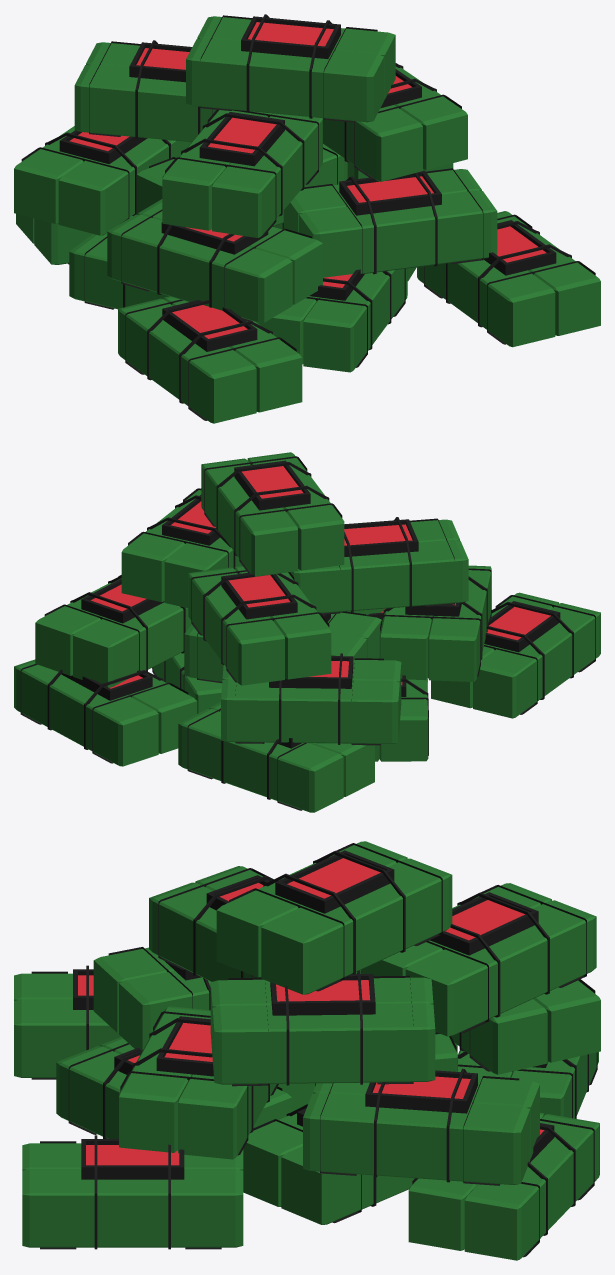
File: towerBomb.fbx
The picture shows the model from 3 angles, top to bottom: view 1: azimuth 30°, elevation 25°; view 2: azimuth 150°, elevation 25°; view 3: azimuth 270°, elevation 25°; orthographic projection. The views are drawn at different scales.
Visible parts, largest first — view 1: Cube.041, Cube.033, Cube.029, Cube.034, Cube.039, Cube.030, Cube.037, Cube.040, Cube.038, Cube.027, Cube.026, Cube.035 (+1 smaller); view 2: Cube.041, Cube.037, Cube.040, Cube.039, Cube.031, Cube.029, Cube.032, Cube.036, Cube.034, Cube.038, Cube.035, Cube.026 (+1 smaller); view 3: Cube.041, Cube.038, Cube.036, Cube.030, Cube.040, Cube.031, Cube.033, Cube.028, Cube.037, Cube.029, Cube.034, Cube.039 (+4 smaller).
Boxes of the visible parts, bbox=[...] form: Cube.041: bbox=[186, 14, 395, 122]; Cube.033: bbox=[283, 168, 497, 277]; Cube.029: bbox=[118, 296, 302, 423]; Cube.034: bbox=[107, 199, 322, 322]; Cube.039: bbox=[162, 109, 322, 237]; Cube.030: bbox=[417, 211, 600, 347]; Cube.037: bbox=[14, 126, 191, 235]; Cube.040: bbox=[74, 40, 216, 142]; Cube.038: bbox=[323, 63, 467, 181]; Cube.027: bbox=[256, 268, 407, 372]; Cube.026: bbox=[69, 216, 168, 309]; Cube.035: bbox=[136, 144, 347, 226]; Cube.041: bbox=[201, 452, 344, 576]; Cube.037: bbox=[221, 653, 401, 745]; Cube.040: bbox=[188, 566, 331, 685]; Cube.039: bbox=[290, 517, 468, 614]; Cube.031: bbox=[14, 659, 197, 766]; Cube.029: bbox=[431, 592, 600, 718]; Cube.032: bbox=[178, 702, 374, 812]; Cube.036: bbox=[35, 575, 191, 687]; Cube.034: bbox=[379, 565, 491, 681]; Cube.038: bbox=[121, 488, 242, 607]; Cube.035: bbox=[184, 611, 382, 683]; Cube.026: bbox=[375, 675, 428, 761]; Cube.041: bbox=[216, 841, 452, 994]; Cube.038: bbox=[210, 970, 435, 1086]; Cube.036: bbox=[303, 1068, 539, 1185]; Cube.030: bbox=[22, 1135, 243, 1249]; Cube.040: bbox=[361, 883, 596, 1036]; Cube.031: bbox=[408, 1112, 599, 1260]; Cube.033: bbox=[119, 1006, 278, 1159]; Cube.028: bbox=[243, 1104, 414, 1224]; Cube.037: bbox=[451, 979, 600, 1074]; Cube.029: bbox=[14, 965, 121, 1079]; Cube.034: bbox=[93, 947, 210, 1050]; Cube.039: bbox=[149, 866, 360, 981].
Bounding box in the file's own units: 181 × 99.95 × 190.
